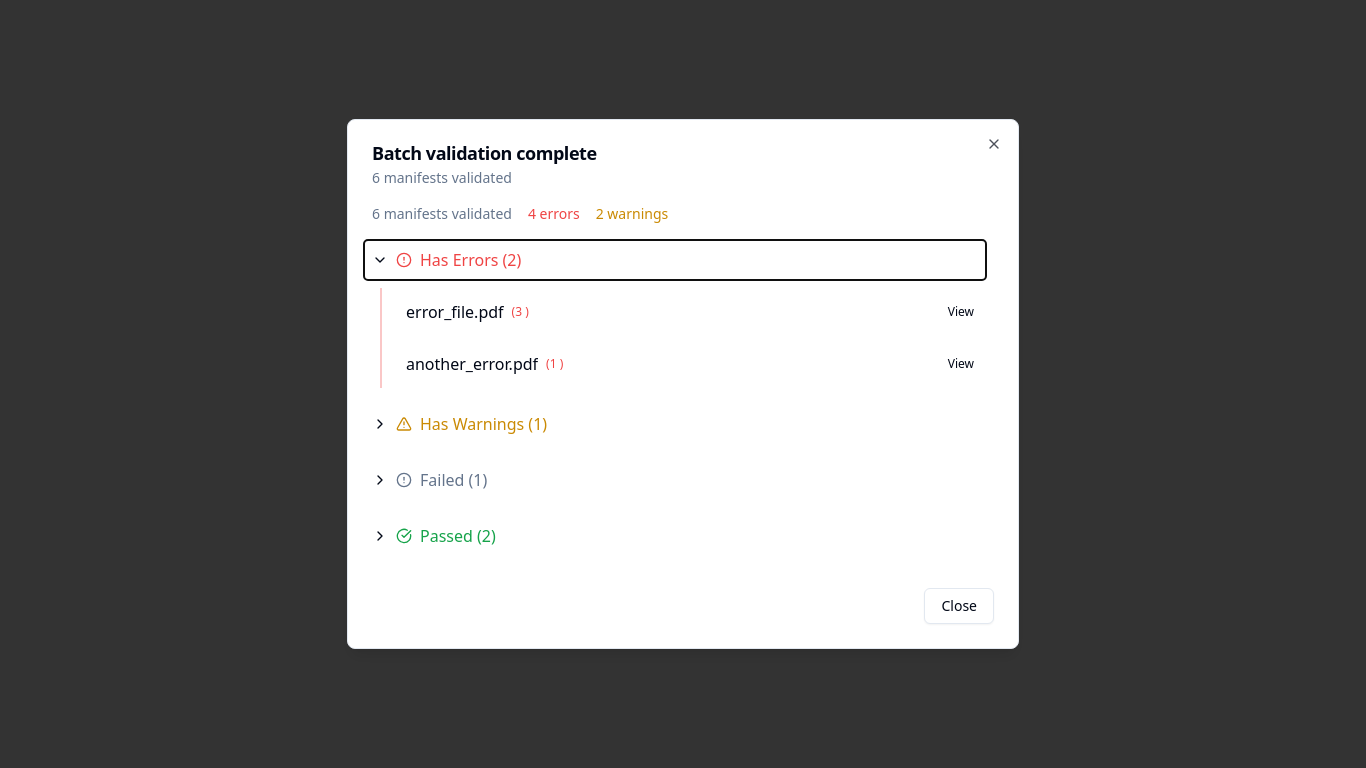
BatchValidationResultsModal › expands warnings section when clicked
The width and height of the screenshot is (1366, 768).
Expected: the text "warning_file.pdf" is not shown
Click the button "Has Warnings (1)": (484, 424) [364,404,986,444]
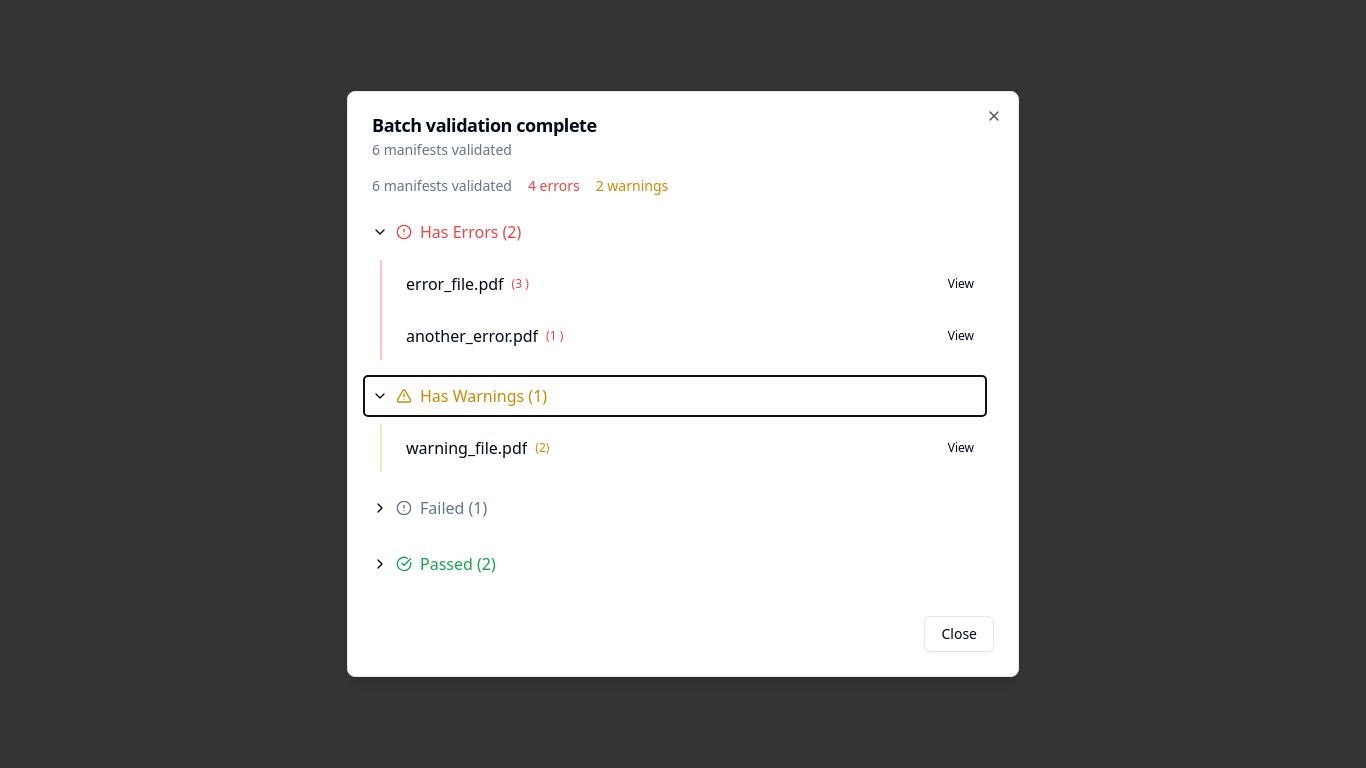
Expected: the text "warning_file.pdf" is shown, [406,436,527,460]
